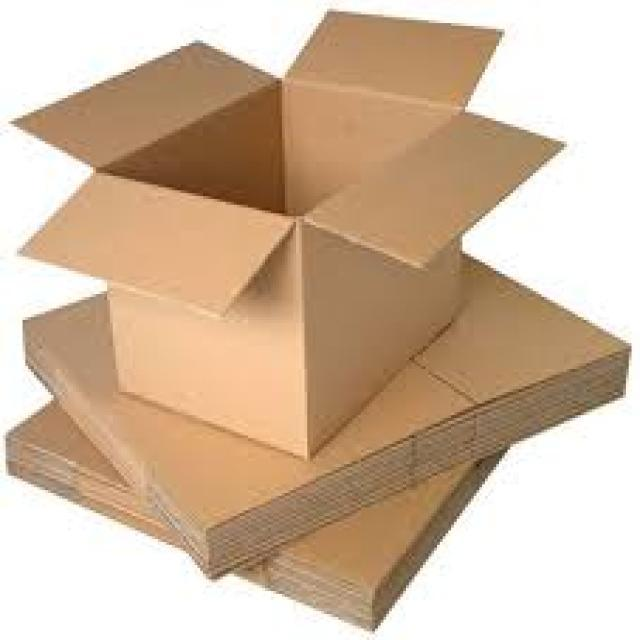Cardboard: (3, 6, 569, 459)
